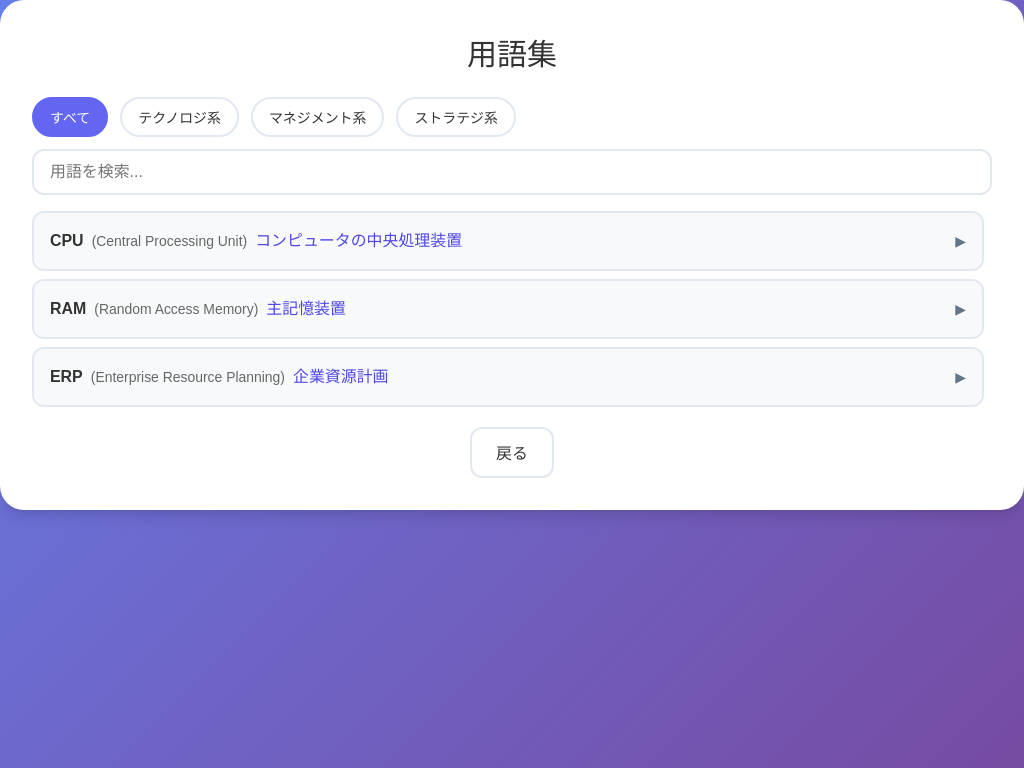
Test: Glossary › search filter › should filter terms by search text
The image size is (1024, 768).
Check: the text "CPU" is shown, box x1=50 y1=229 x2=84 y2=253
Type "CPU" into the field with placeholder "用語を検索..." at (512, 172), box x1=32 y1=149 x2=992 y2=195
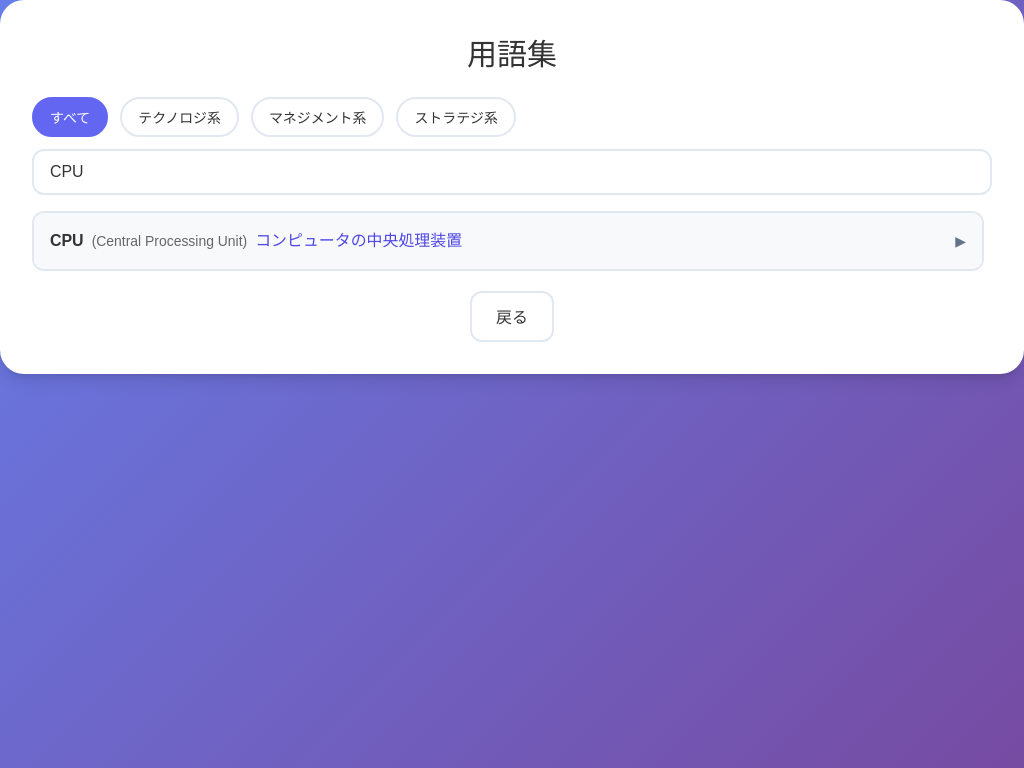
Check: the text "CPU" is shown, box x1=50 y1=229 x2=84 y2=253
Check: the button "RAM" is gone
Check: the button "ERP" is gone
